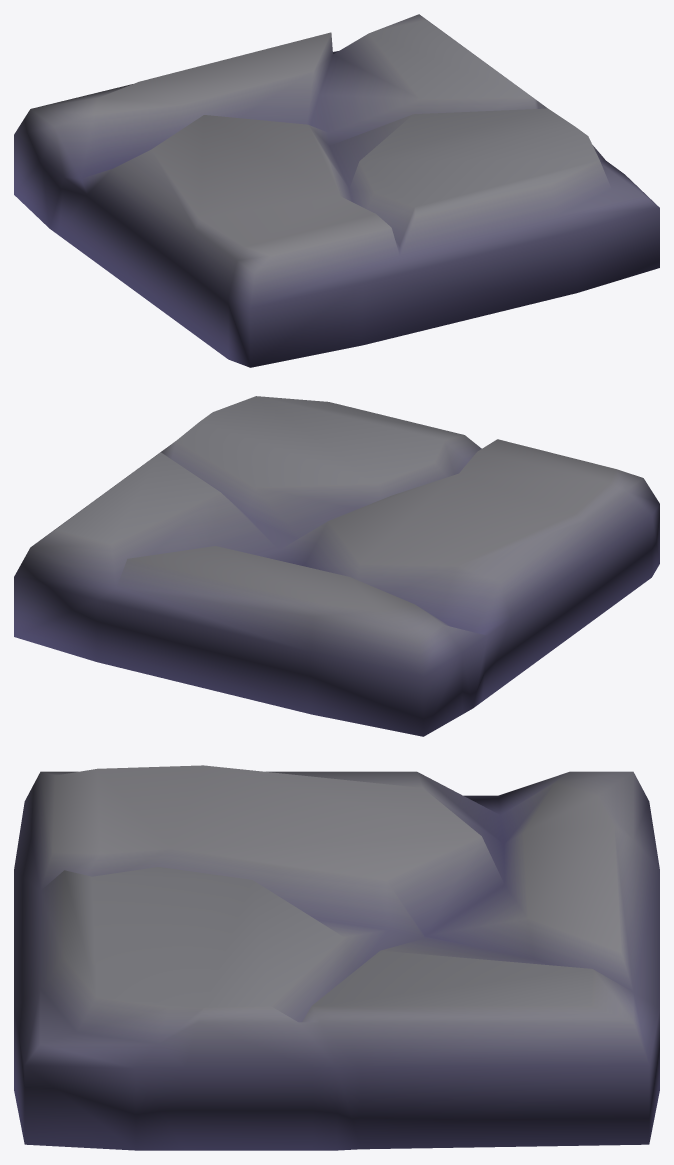
Rendered from floorTile3.fbx.
3 views of the same model, one above another, from view 1: azimuth 30°, elevation 25°; view 2: azimuth 150°, elevation 25°; view 3: azimuth 270°, elevation 25° (orthographic). The views are drawn at different scales.
Visible parts, largest first — view 1: floorTile3; view 2: floorTile3; view 3: floorTile3.
Part boxes in pixels (x1=…): floorTile3: x1=14, y1=14, x2=659, y2=367; floorTile3: x1=14, y1=396, x2=659, y2=736; floorTile3: x1=14, y1=765, x2=659, y2=1150.
Size of the model in its own units: 10 by 2.18 by 10.
